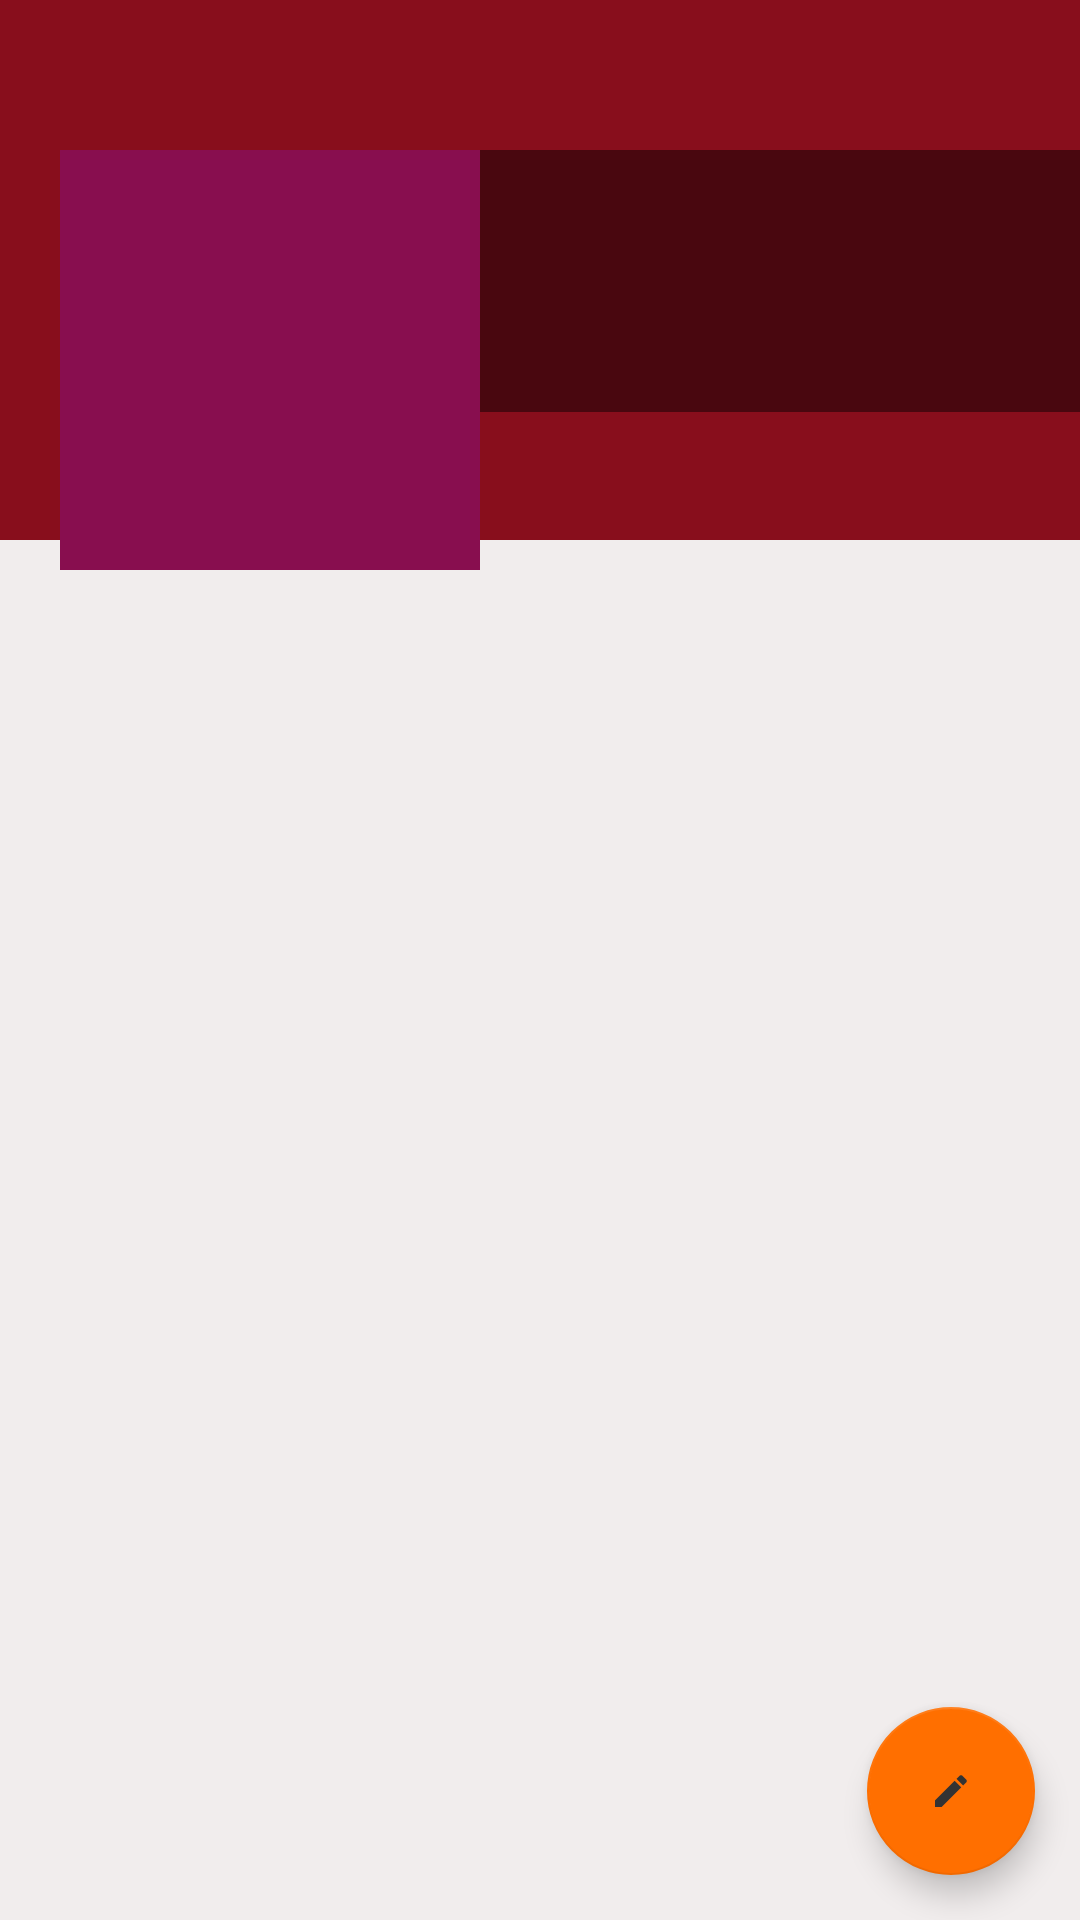

Icons on this 1080px×1920px Android screen, each with the point to tap as point (x, y):
edit: point (951, 1791)
